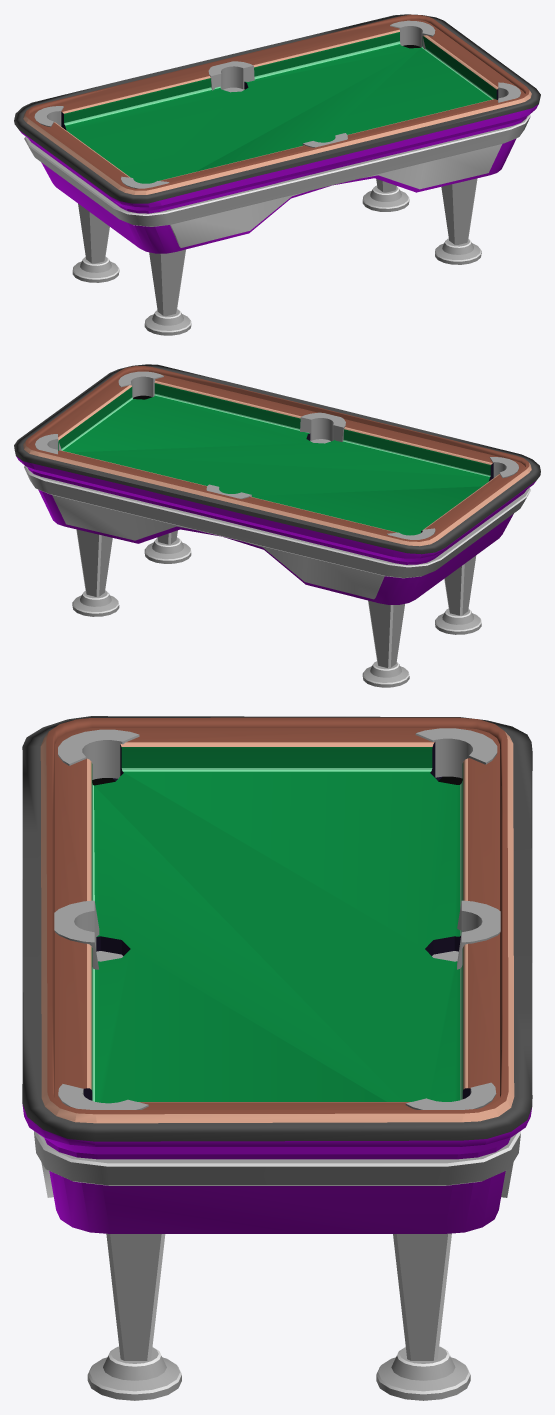
The model's file is BilardoTableVIP.fbx.
3 renders of one model, top to bottom at view 1: azimuth 30°, elevation 25°; view 2: azimuth 150°, elevation 25°; view 3: azimuth 270°, elevation 25°, orthographic. The views are drawn at different scales.
Parts seen in each view (by area): view 1: BilardoTable, BilardoTable1, pCylinder9, pCube1, pCylinder7; view 2: BilardoTable, BilardoTable1, pCylinder9, pCube1, pCylinder7; view 3: BilardoTable, BilardoTable1, pCylinder9, pCube1, pCylinder7.
Boxes of the visible parts, bbox=[...] form: BilardoTable: bbox=[30, 19, 524, 187]; BilardoTable1: bbox=[14, 14, 540, 253]; pCylinder9: bbox=[72, 178, 481, 335]; pCube1: bbox=[24, 87, 530, 226]; pCylinder7: bbox=[34, 20, 520, 188]; BilardoTable: bbox=[30, 370, 524, 535]; BilardoTable1: bbox=[14, 364, 540, 604]; pCylinder9: bbox=[72, 529, 481, 687]; pCube1: bbox=[24, 439, 530, 578]; pCylinder7: bbox=[35, 371, 518, 539]; BilardoTable: bbox=[55, 728, 499, 1109]; BilardoTable1: bbox=[22, 716, 532, 1233]; pCylinder9: bbox=[87, 1233, 470, 1400]; pCube1: bbox=[34, 951, 520, 1185]; pCylinder7: bbox=[54, 728, 500, 1109].
Size of the model in its own units: 839 by 305 by 434.
